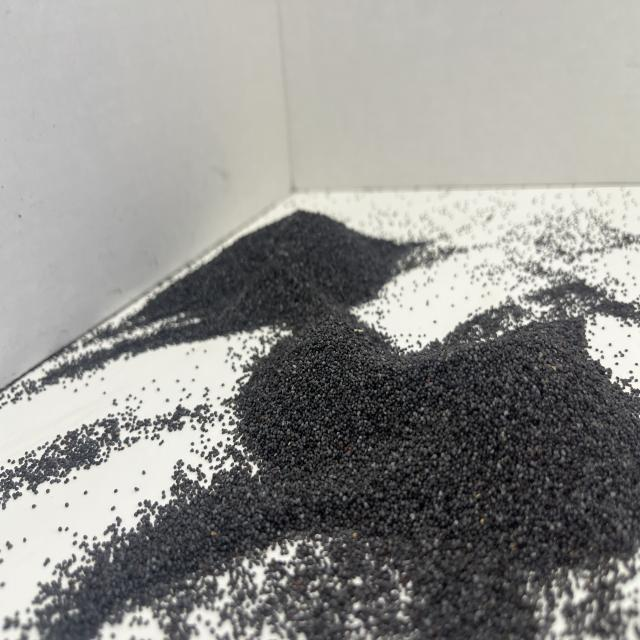Poppy Seeds: (222, 310, 618, 634)
